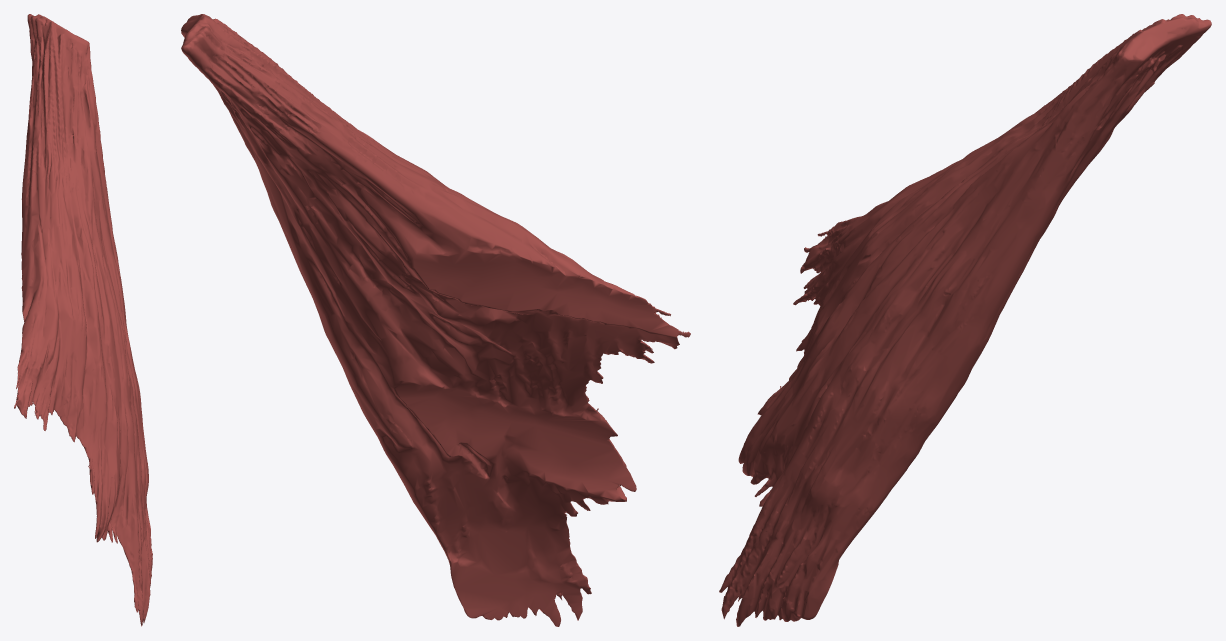
File: FMA13376.glb
3 renders of one model, left to right at view 1: azimuth 30°, elevation 25°; view 2: azimuth 150°, elevation 25°; view 3: azimuth 270°, elevation 25°, orthographic. The views are drawn at different scales.
Visible parts, largest first — view 1: FMA13376; view 2: FMA13376; view 3: FMA13376.
Boxes of the visible parts, x1,y1,x2,y2 form: FMA13376: (14, 14, 152, 626); FMA13376: (181, 14, 690, 626); FMA13376: (719, 14, 1211, 626).
Bounding box in the file's own units: 0.057 × 0.1343 × 0.0922.
